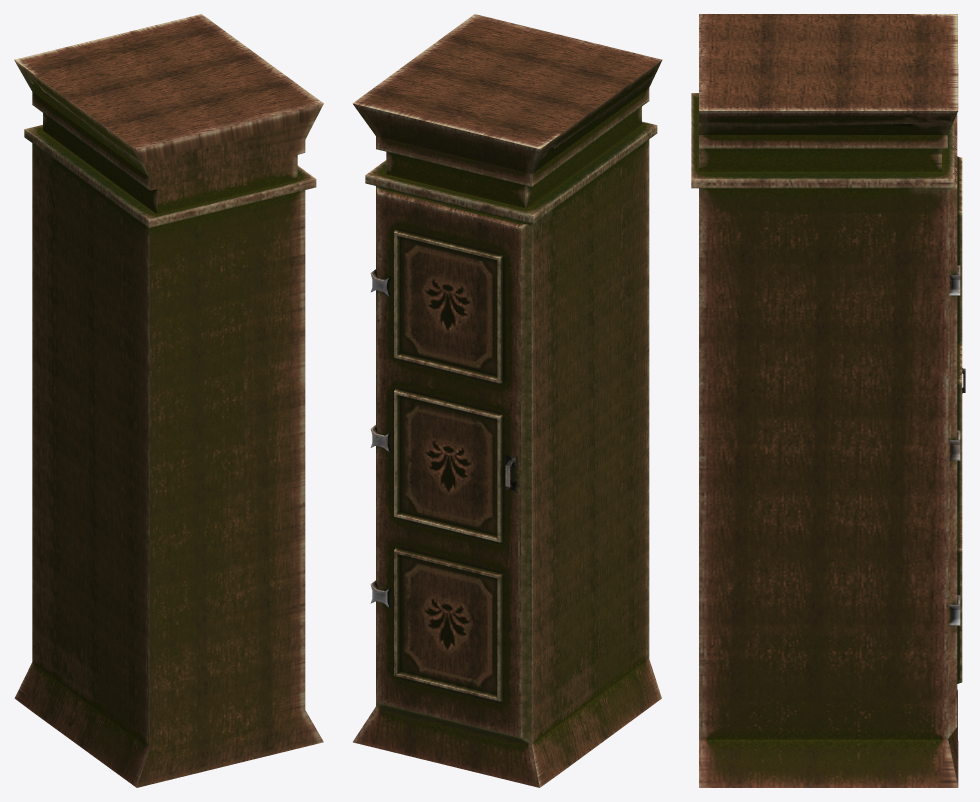
File: cabinetSmall.fbx
3 renders of one model, left to right at view 1: azimuth 30°, elevation 25°; view 2: azimuth 150°, elevation 25°; view 3: azimuth 270°, elevation 25°, orthographic. The views are drawn at different scales.
Visible parts, largest first — view 1: cabinetSmall; view 2: cabinetSmall; view 3: cabinetSmall.
Boxes of the visible parts, box(x1,y1,x2,y2) form: cabinetSmall: box(14, 14, 323, 787); cabinetSmall: box(352, 14, 662, 787); cabinetSmall: box(691, 14, 965, 787).
Size of the model in its own units: 55.25 by 180 by 66.04.
